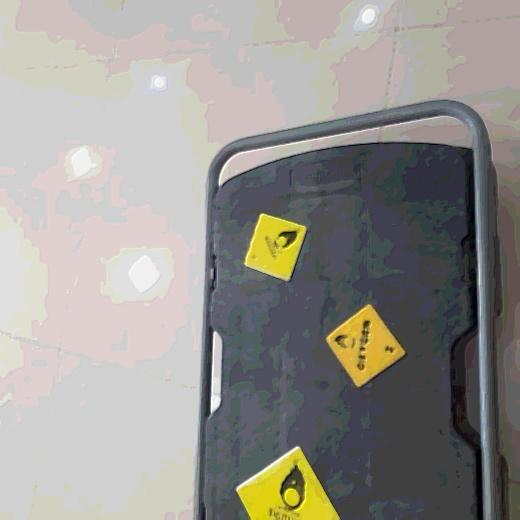oxidizer: (234, 444, 343, 520), (333, 306, 420, 389), (247, 197, 313, 273)
